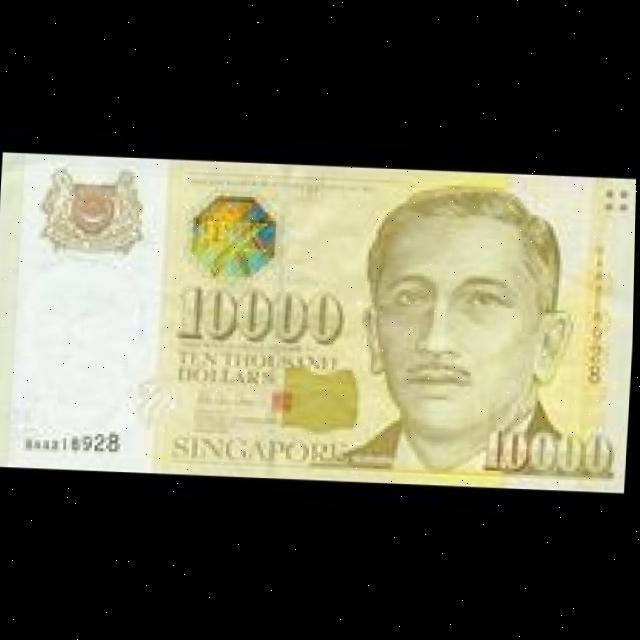banknote: (0, 149, 637, 492), (172, 275, 348, 348), (478, 415, 617, 488)
